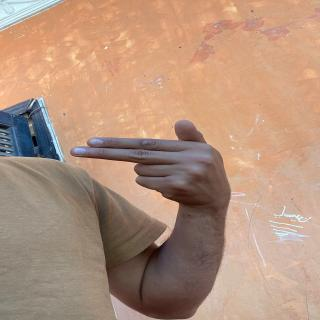GHAYN: (71, 116, 270, 206)
